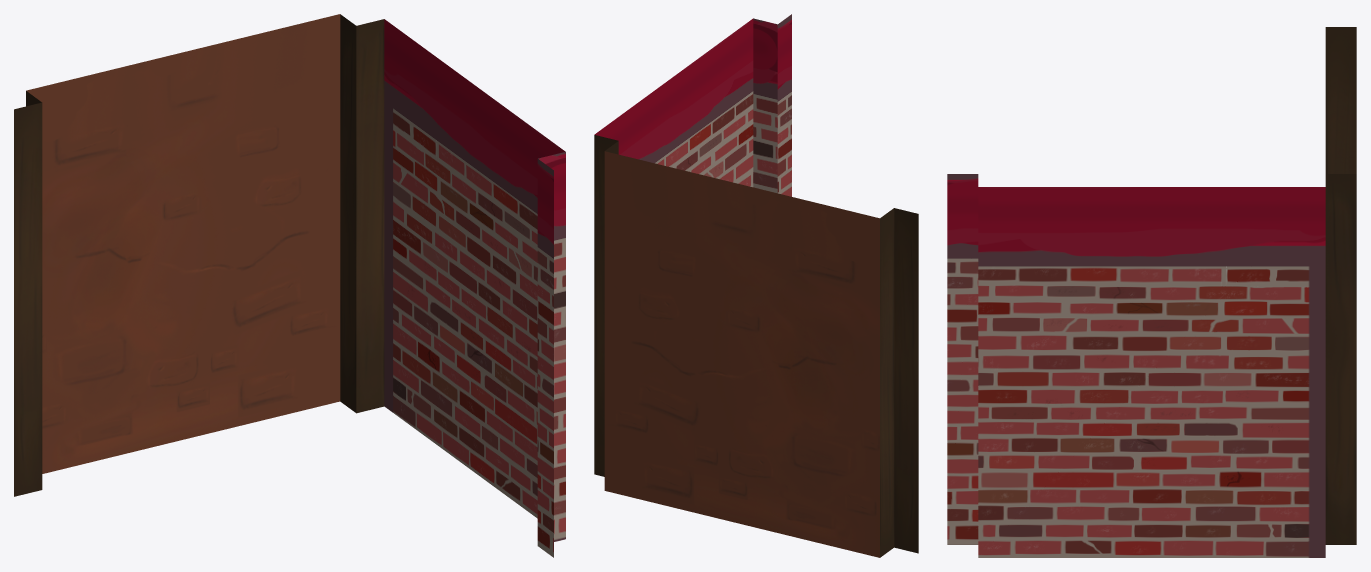
File: Wall corner.fbx
The picture shows the model from 3 angles, left to right: view 1: azimuth 30°, elevation 25°; view 2: azimuth 150°, elevation 25°; view 3: azimuth 270°, elevation 25°; orthographic projection. The views are drawn at different scales.
Parts seen in each view (by area): view 1: wall, wall1; view 2: wall, wall1; view 3: wall1, wall.
Part boxes in pixels (bbox=[...]): wall: bbox=[14, 14, 384, 496]; wall1: bbox=[384, 19, 565, 557]; wall: bbox=[594, 135, 918, 557]; wall1: bbox=[594, 14, 791, 196]; wall1: bbox=[947, 174, 1325, 557]; wall: bbox=[1325, 27, 1356, 544].
Bounding box in the file's own units: 52.96 × 52.96 × 52.96.
Materials: 2 (2 with a texture image).
